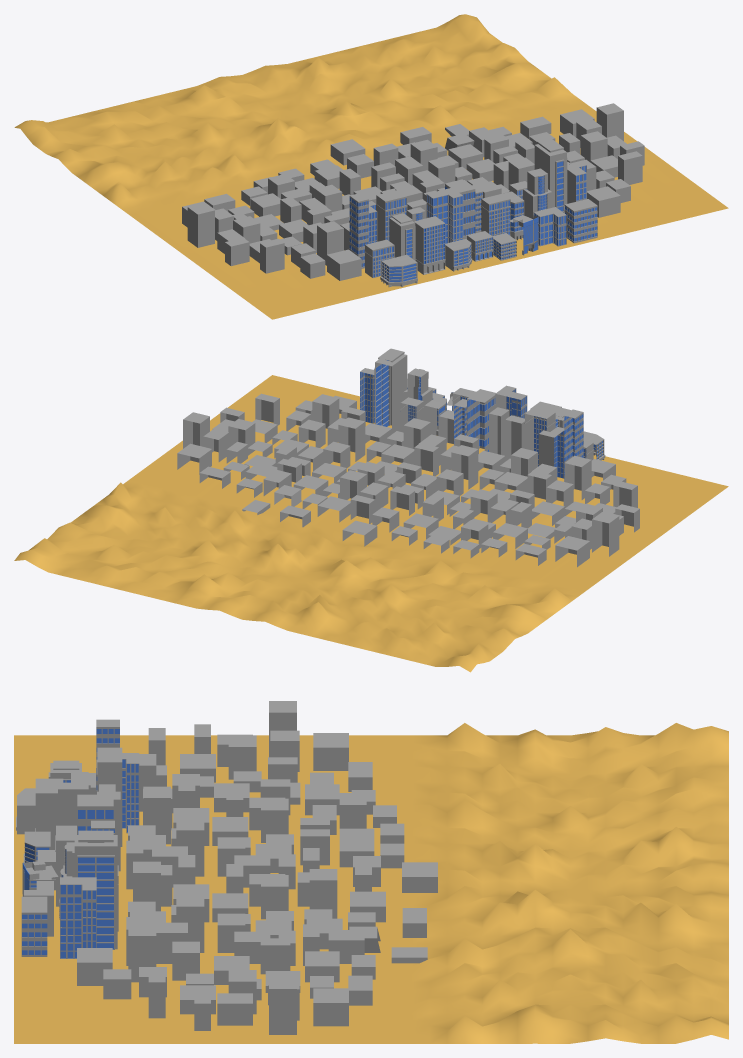
Rendered from city_v3.fbx.
The picture shows the model from 3 angles, top to bottom: view 1: azimuth 30°, elevation 25°; view 2: azimuth 150°, elevation 25°; view 3: azimuth 270°, elevation 25°; orthographic projection. The views are drawn at different scales.
Visible parts, largest first — view 1: low_pCube28; view 2: low_pCube28; view 3: low_pCube28.
Part boxes in pixels (bbox=[...]): low_pCube28: bbox=[14, 14, 728, 319]; low_pCube28: bbox=[14, 348, 728, 672]; low_pCube28: bbox=[14, 701, 728, 1043].
Size of the model in its own units: 9.69 by 1.6 by 9.49.
